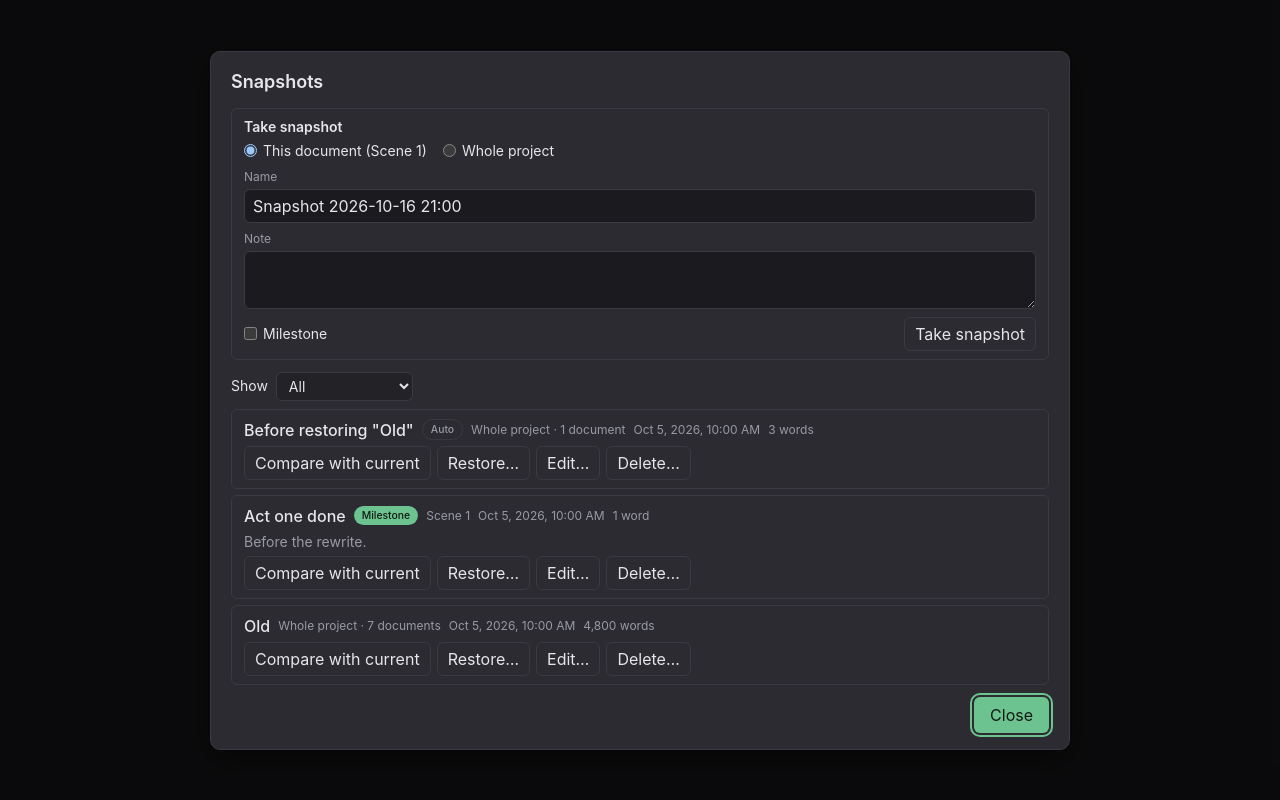
Test: SnapshotsDialog (F-8.6) › shows the cause when the comparison fails
Click the button with aria-label "Compare Old with current". click: x=337, y=658
box: [244,642,431,676]
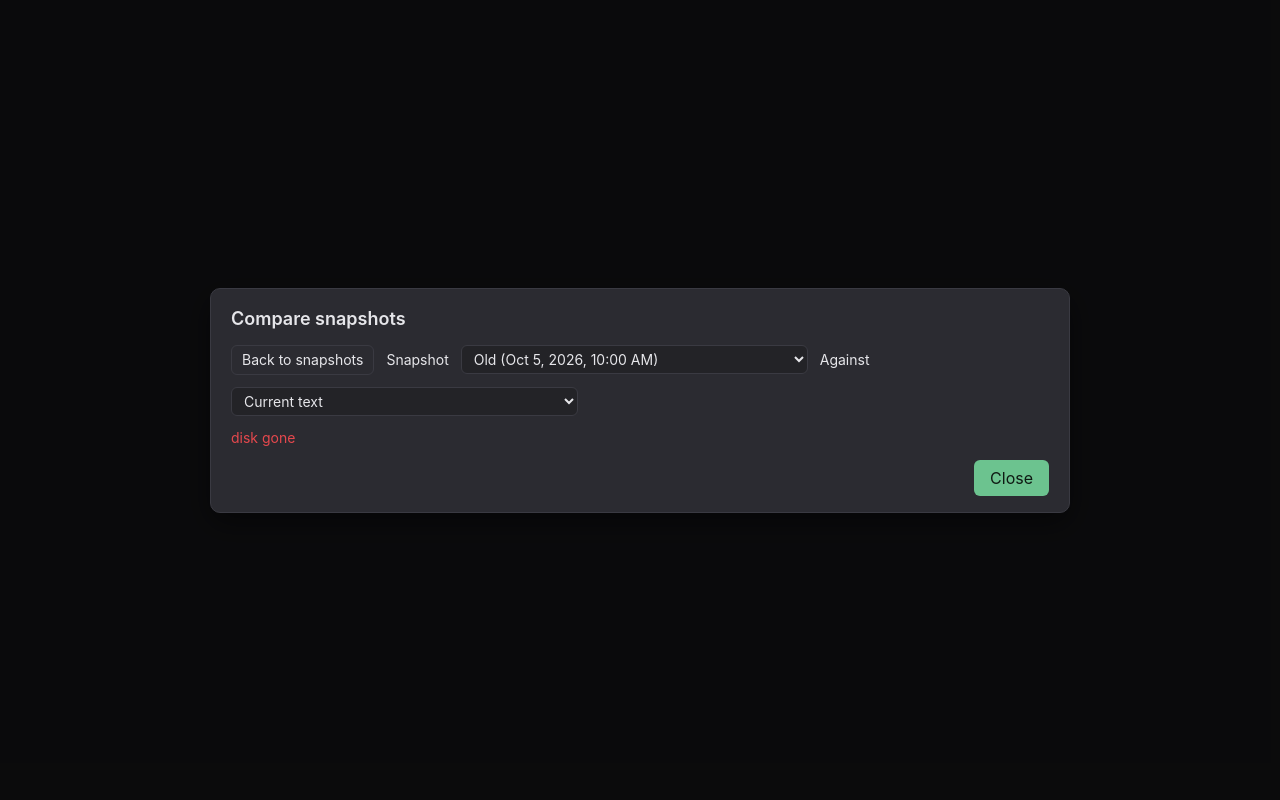
Now the message reads "disk gone", box [231,428,295,446]
